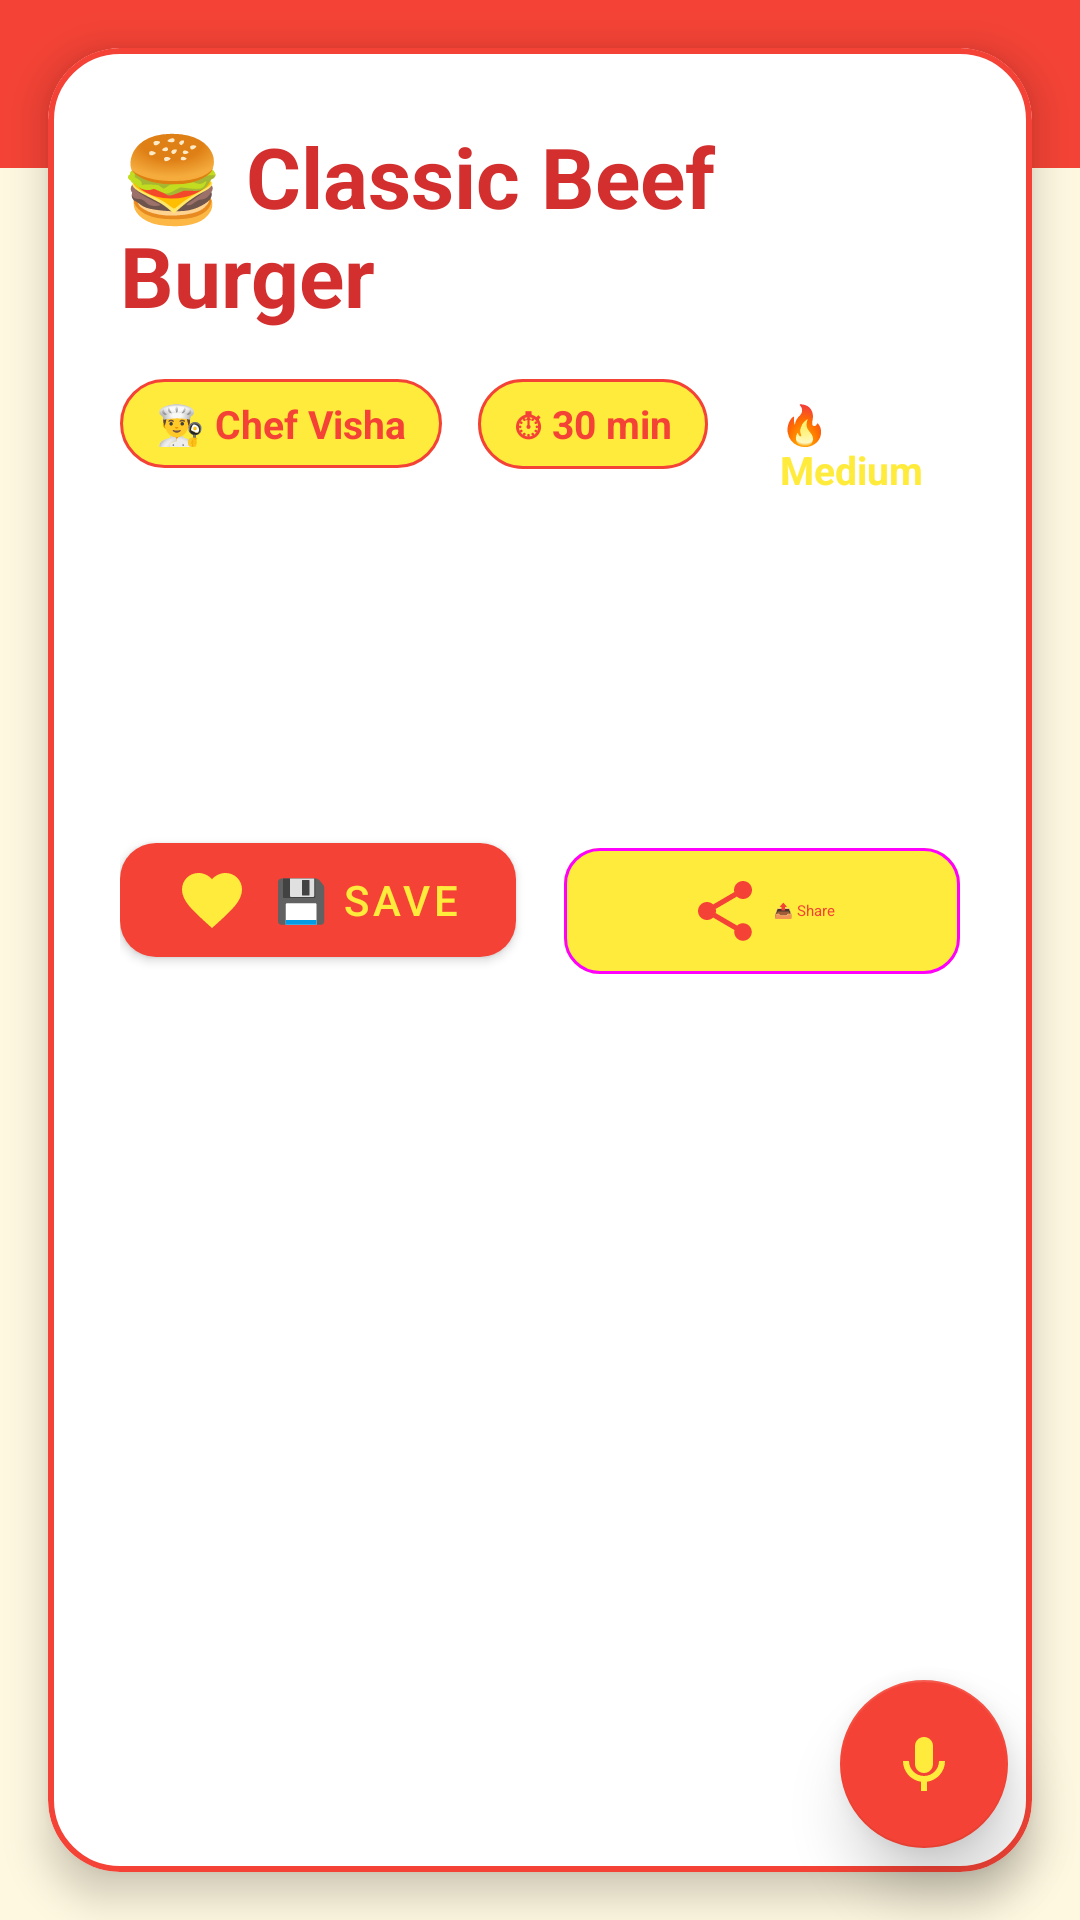

Icon bounding boxes for this 1080x1920 phone screenshot, format BBox(x1, y1, x2, y2):
voice: BBox(840, 1680, 1008, 1848)
